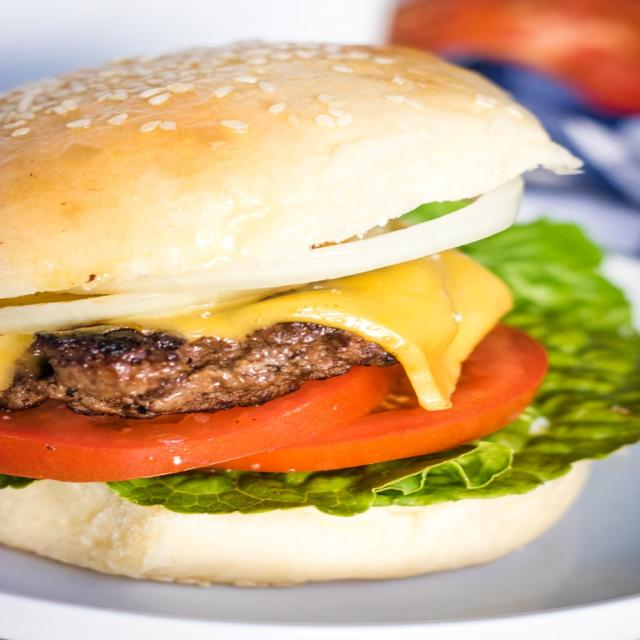burger: (3, 31, 639, 588)
